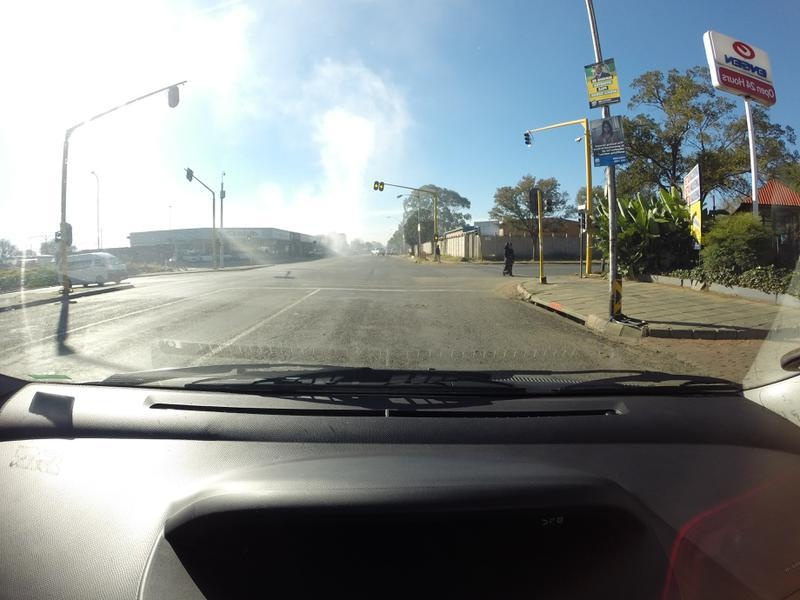pothole: (402, 301, 425, 311)
